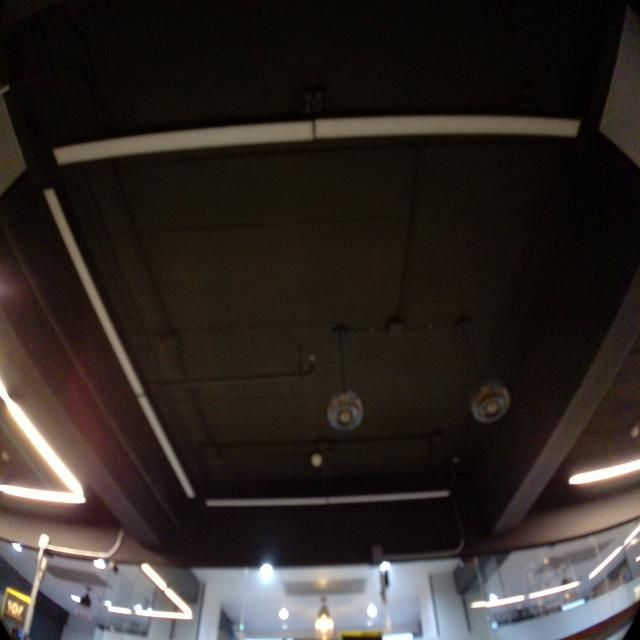lamp2_off: (35, 180, 202, 507), (45, 102, 589, 173), (202, 481, 455, 515)
